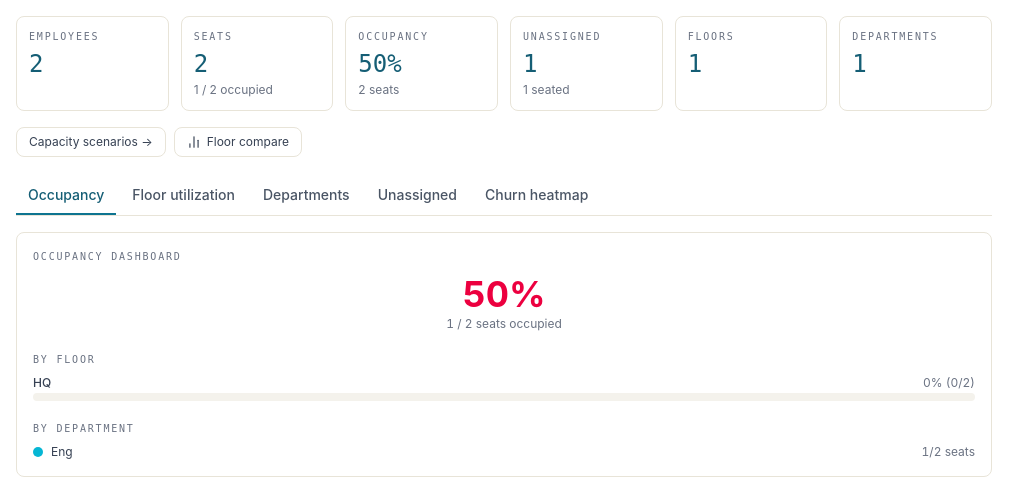
Test: ReportsPage › shows Unassigned table when the tab is active
Click the tab "Unassigned". click: {"x": 417, "y": 196}
box: [366,177,469,215]
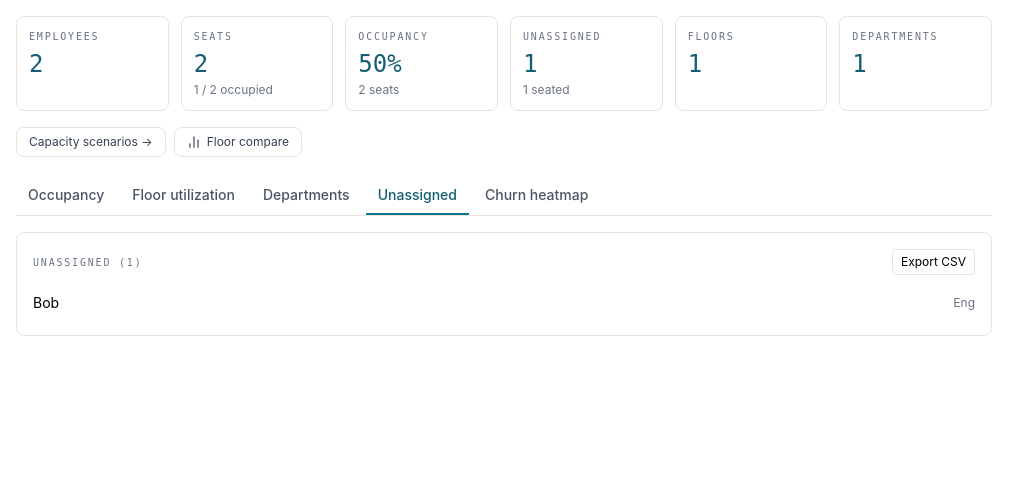
Check: the text "Bob" is shown, box [33,293,59,313]
